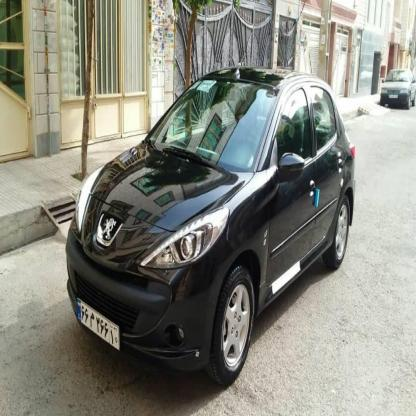Car: (66, 63, 353, 388), (378, 68, 416, 107)
